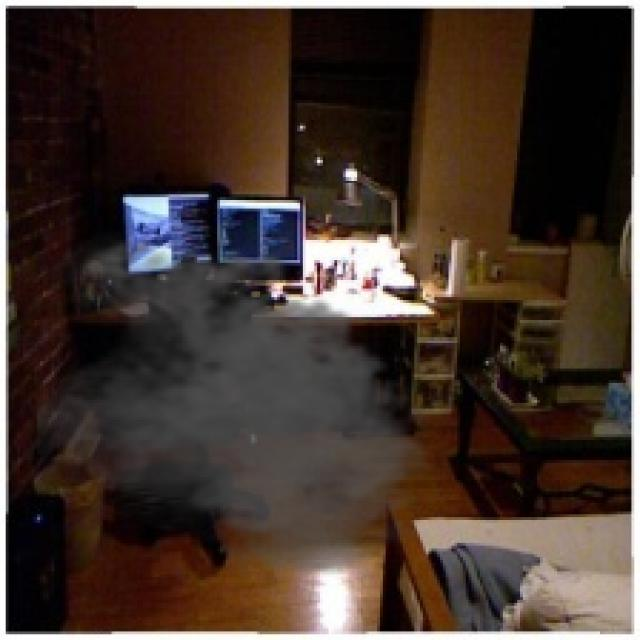smoke: (37, 228, 446, 583)
